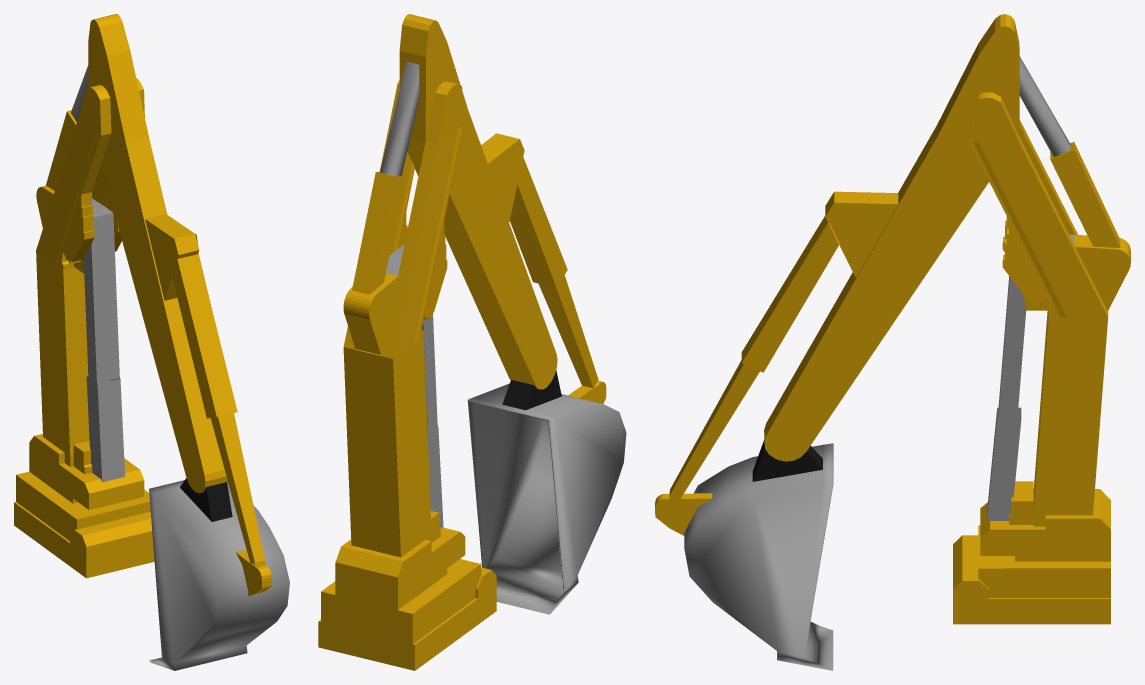
Rendered from Backhoe.glb.
3 renders of one model, left to right at view 1: azimuth 30°, elevation 25°; view 2: azimuth 150°, elevation 25°; view 3: azimuth 270°, elevation 25°, orthographic. The views are drawn at different scales.
Parts seen in each view (by area): view 1: arm.001, arm.002, arm.003, body, top, bottom, bottom.003, bottom.002, bottom.001, bottom.004, arm, arm.004 (+2 smaller); view 2: arm.002, arm.001, body, top, arm.003, bottom.002, bottom.001, bottom, arm.004, bottom.005, arm.005, bottom.003 (+2 smaller); view 3: arm.001, arm.002, top, arm.003, body, bottom, bottom.002, bottom.001, arm.004, bottom.003, bottom.004, bottom.005 (+3 smaller).
Part boxes in pixels (bbox=[...]): arm.001: bbox=[88, 14, 227, 493]; arm.002: bbox=[149, 480, 289, 670]; arm.003: bbox=[145, 214, 271, 596]; body: bbox=[36, 250, 89, 466]; top: bbox=[36, 78, 144, 270]; bottom: bbox=[14, 502, 154, 578]; bottom.003: bbox=[83, 198, 119, 383]; bottom.002: bbox=[29, 433, 144, 509]; bottom.001: bbox=[16, 471, 150, 540]; bottom.004: bbox=[86, 375, 124, 482]; arm: bbox=[180, 478, 232, 521]; arm.004: bbox=[46, 110, 76, 190]; arm.002: bbox=[467, 383, 626, 614]; arm.001: bbox=[399, 14, 557, 389]; body: bbox=[343, 337, 431, 557]; top: bbox=[343, 80, 462, 358]; arm.003: bbox=[481, 133, 606, 403]; bottom.002: bbox=[335, 527, 465, 610]; bottom.001: bbox=[321, 559, 481, 644]; bottom: bbox=[318, 567, 496, 670]; arm.004: bbox=[352, 172, 405, 294]; bottom.005: bbox=[343, 273, 423, 354]; arm.005: bbox=[380, 61, 419, 176]; bottom.003: bbox=[386, 245, 437, 432]; arm.001: bbox=[764, 14, 1019, 461]; arm.002: bbox=[684, 443, 833, 670]; top: bbox=[969, 92, 1108, 317]; arm.003: bbox=[655, 191, 898, 535]; body: bbox=[1033, 311, 1108, 526]; bottom: bbox=[953, 535, 1110, 624]; bottom.002: bbox=[980, 489, 1110, 561]; bottom.001: bbox=[978, 525, 1110, 597]; arm.004: bbox=[1050, 142, 1120, 247]; bottom.003: bbox=[998, 234, 1074, 419]; bottom.004: bbox=[987, 407, 1021, 523]; bottom.005: bbox=[1022, 234, 1130, 310].
Bounding box in the file's own units: 0.3296 × 2.13 × 1.45.
